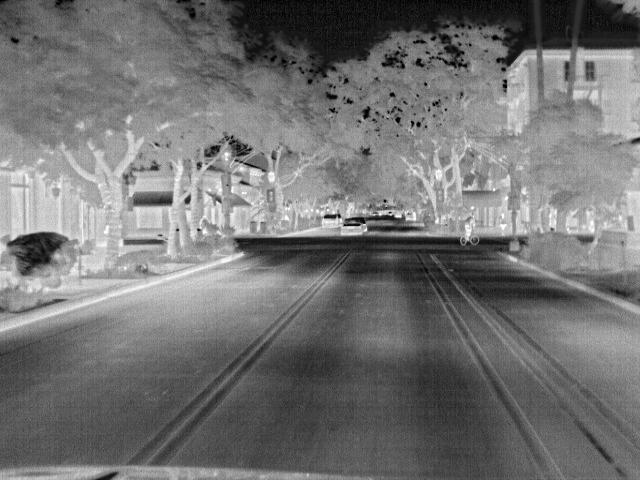car: (339, 218, 362, 237), (319, 212, 339, 229), (350, 216, 368, 232)
person: (462, 213, 477, 243), (496, 211, 508, 237)
